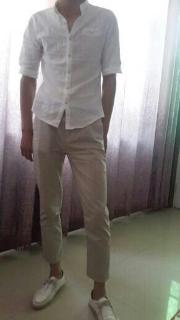short sleeve top: (18, 0, 122, 129)
trousers: (32, 106, 111, 282)
